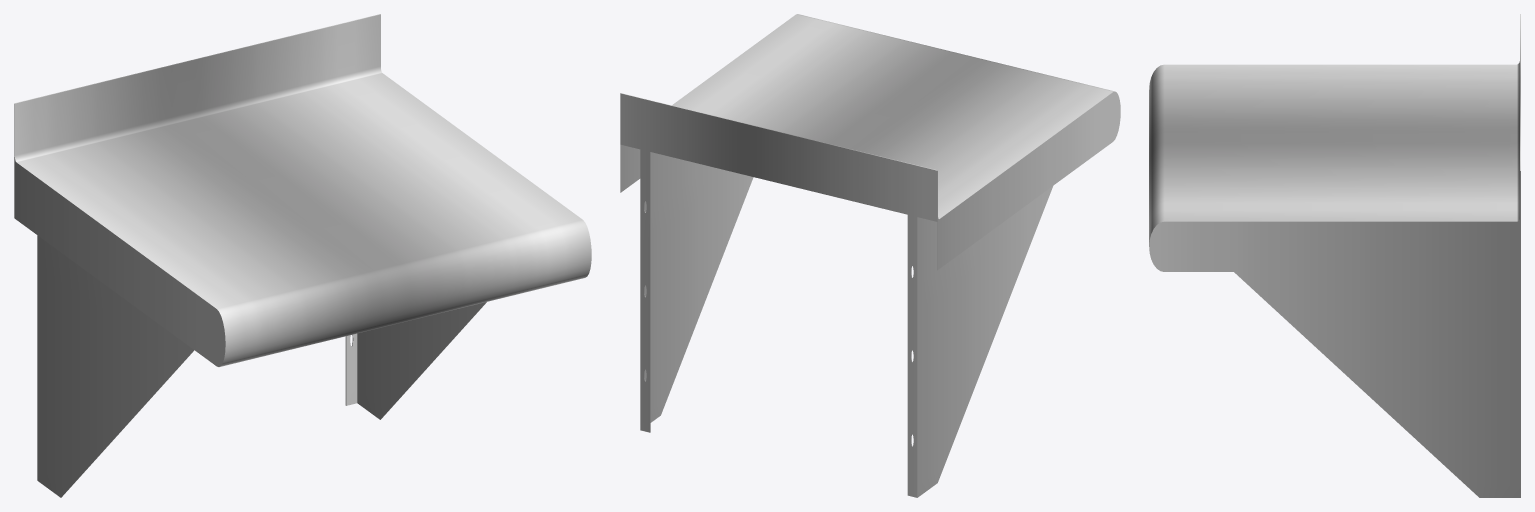
The model's file is sh-contrib-stainless-steel-shelf.glb.
3 views of the same model, side by side, from view 1: azimuth 30°, elevation 25°; view 2: azimuth 150°, elevation 25°; view 3: azimuth 270°, elevation 25° (orthographic). The views are drawn at different scales.
Visible parts, largest first — view 1: 1_1; view 2: 1_1; view 3: 1_1.
Boxes of the visible parts, left/top/right/bottom form: 1_1: left=14, top=14, right=591, bottom=497; 1_1: left=620, top=14, right=1120, bottom=497; 1_1: left=1149, top=14, right=1520, bottom=497.
Bounding box in the file's own units: 1 × 1 × 1.
Materials: 1 (1 with a texture image).
